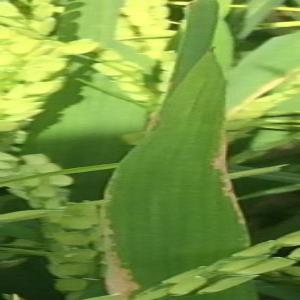Bacterial_Blight: (145, 67, 231, 263)
